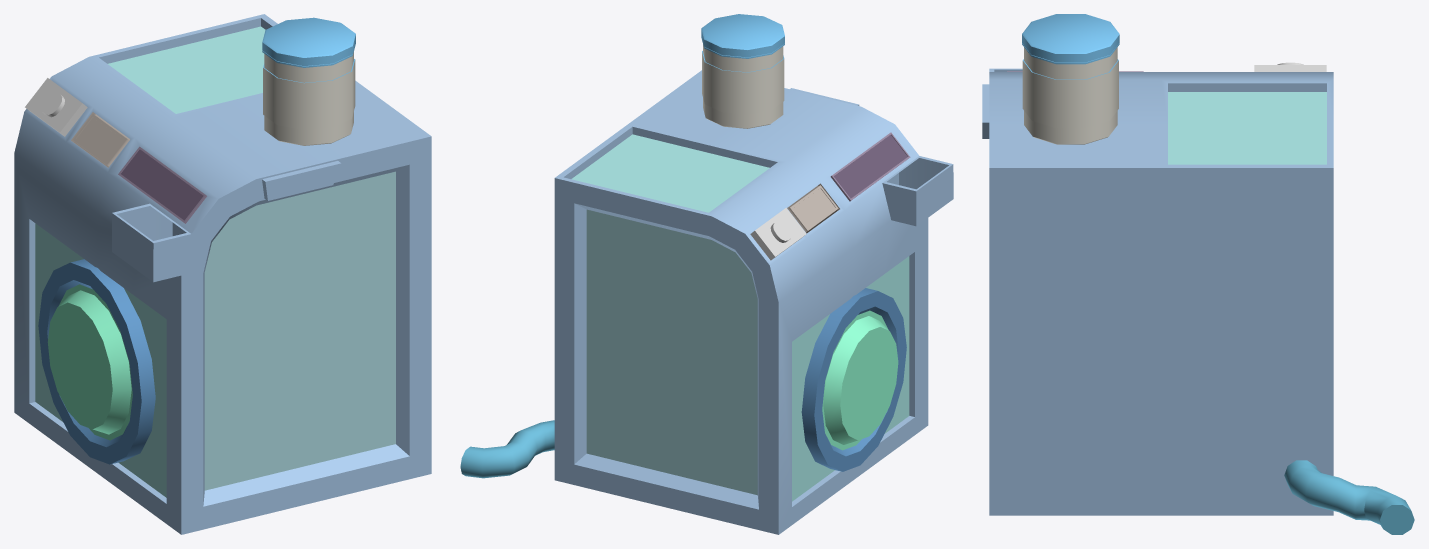
Rendered from WashingMachine.fbx.
3 views of the same model, side by side, from view 1: azimuth 30°, elevation 25°; view 2: azimuth 150°, elevation 25°; view 3: azimuth 270°, elevation 25° (orthographic). The views are drawn at different scales.
Parts seen in each view (by area): view 1: WashingMachine; view 2: WashingMachine; view 3: WashingMachine.
Part boxes in pixels (x1,y1,x2,y2): WashingMachine: (14, 14, 431, 534); WashingMachine: (460, 14, 953, 534); WashingMachine: (982, 14, 1414, 534).
Bounding box in the file's own units: 100 × 106 × 119.
